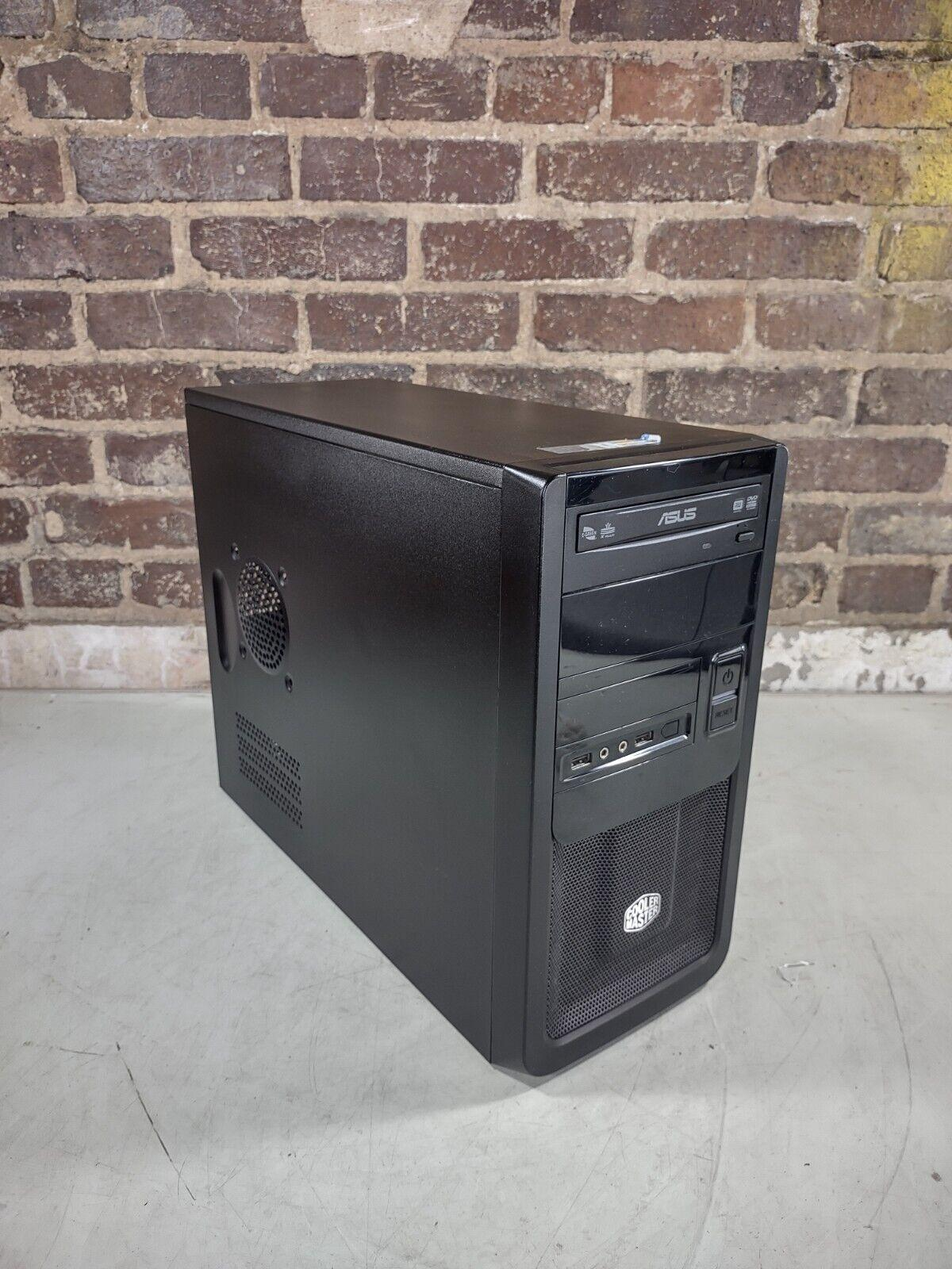computer_tower: (173, 367, 796, 1094)
